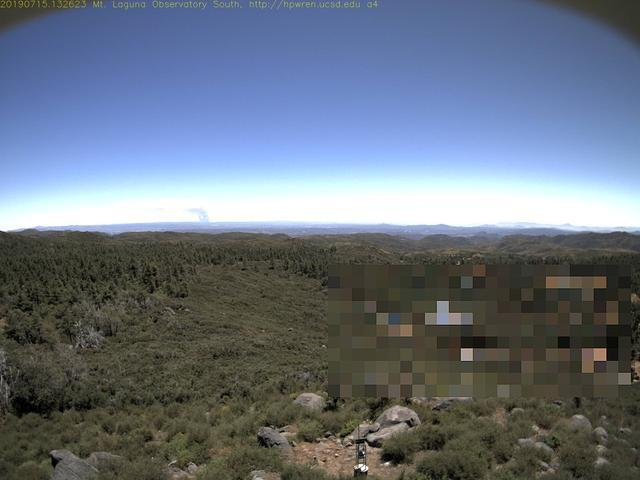smoke: (182, 204, 219, 230)
